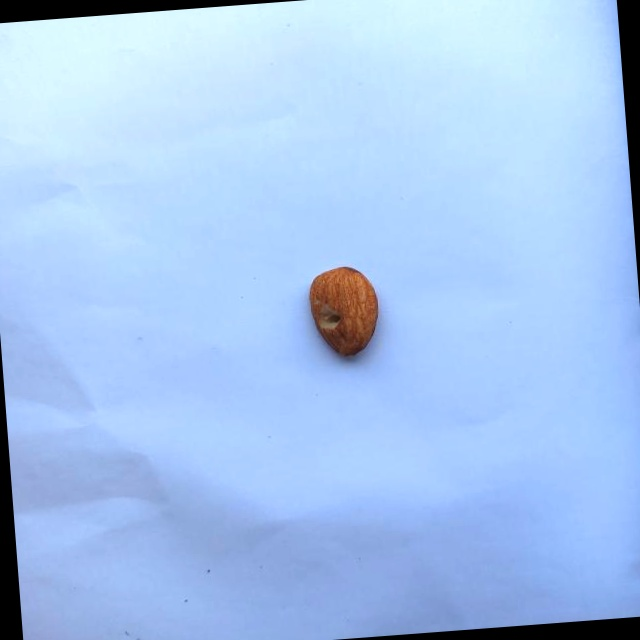grade3: (302, 260, 384, 364)
